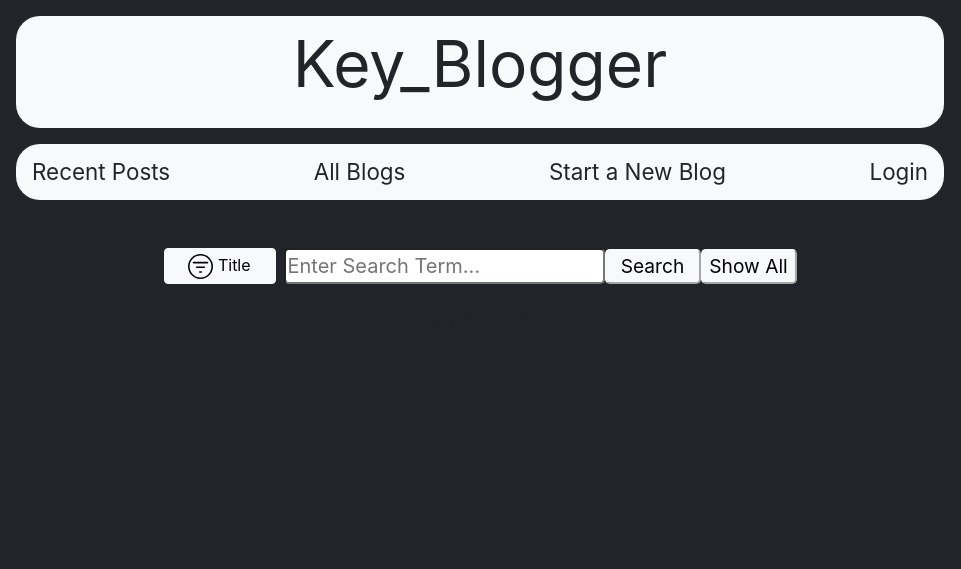
Make sure Nav loads › loads 'login' correctly when clicked
Click the element with test id "loginLogoutLink": [900, 172] box top-left (870, 158), bottom-right (929, 185)
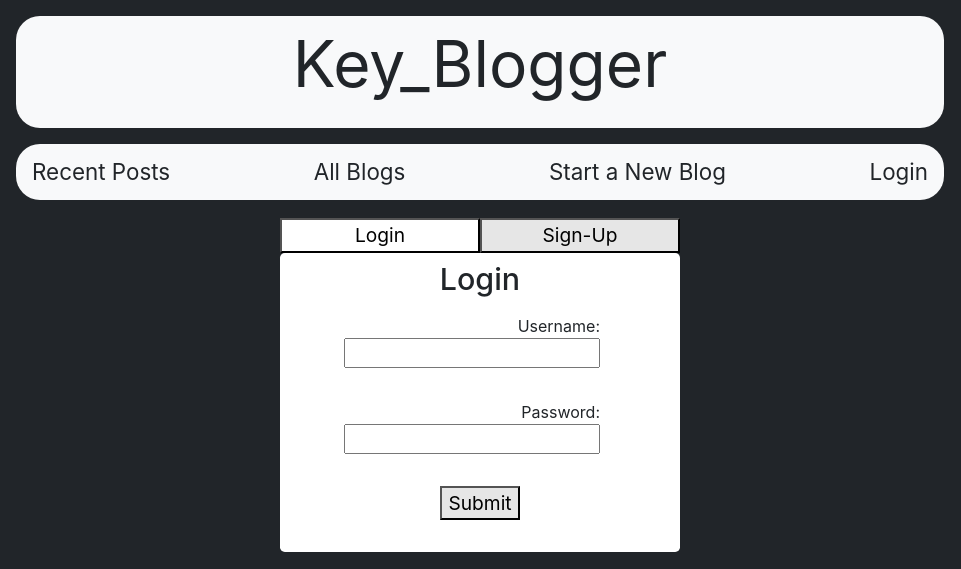
Expected: the element with test id "loginForm" is shown, top-left (280, 210), bottom-right (680, 253)
